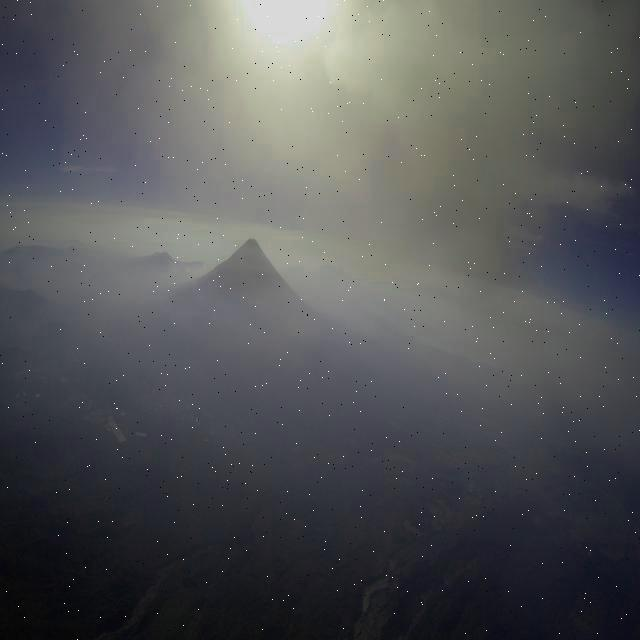Plume: (1, 0, 640, 301)
